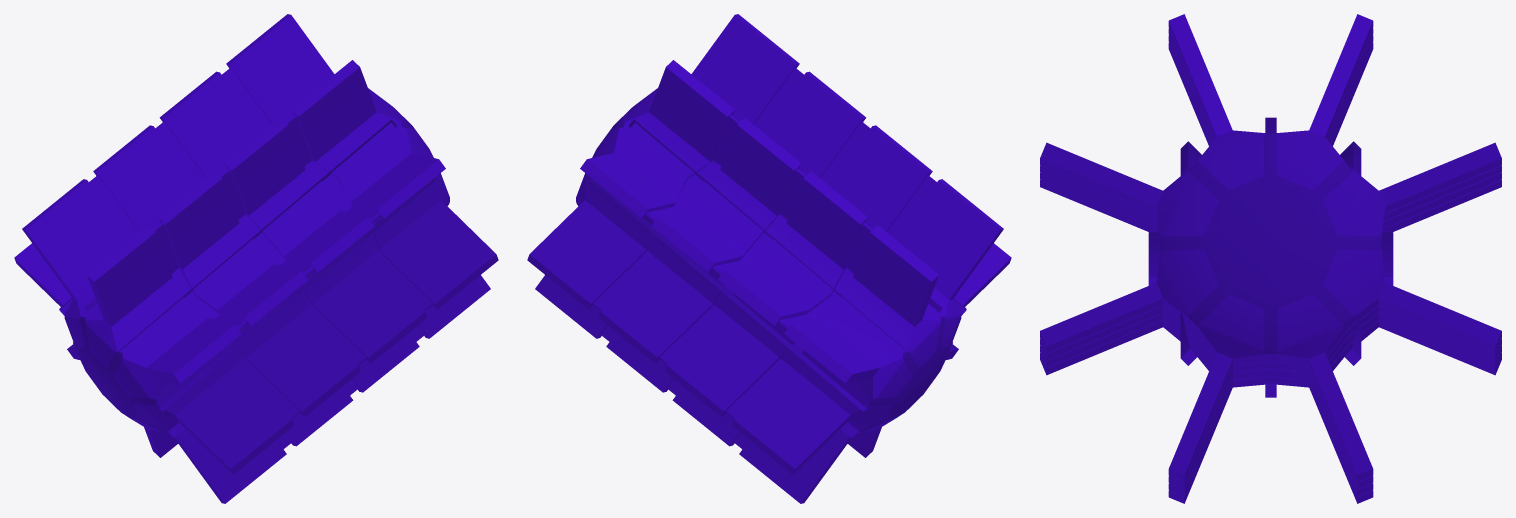
File: Sketchfab_Scene.gltf
3 views of the same model, side by side, from view 1: azimuth 30°, elevation 25°; view 2: azimuth 150°, elevation 25°; view 3: azimuth 270°, elevation 25° (orthographic). The views are drawn at different scales.
Parts seen in each view (by area): view 1: Cube.032_4; view 2: Cube.032_4; view 3: Cube.032_4.
Part boxes in pixels (bbox=[...]): Cube.032_4: bbox=[14, 14, 498, 503]; Cube.032_4: bbox=[527, 14, 1011, 503]; Cube.032_4: bbox=[1040, 14, 1501, 503].
Size of the model in its own units: 0.7424 by 0.7287 by 0.5259.
Materials: 1 (1 with a texture image).
